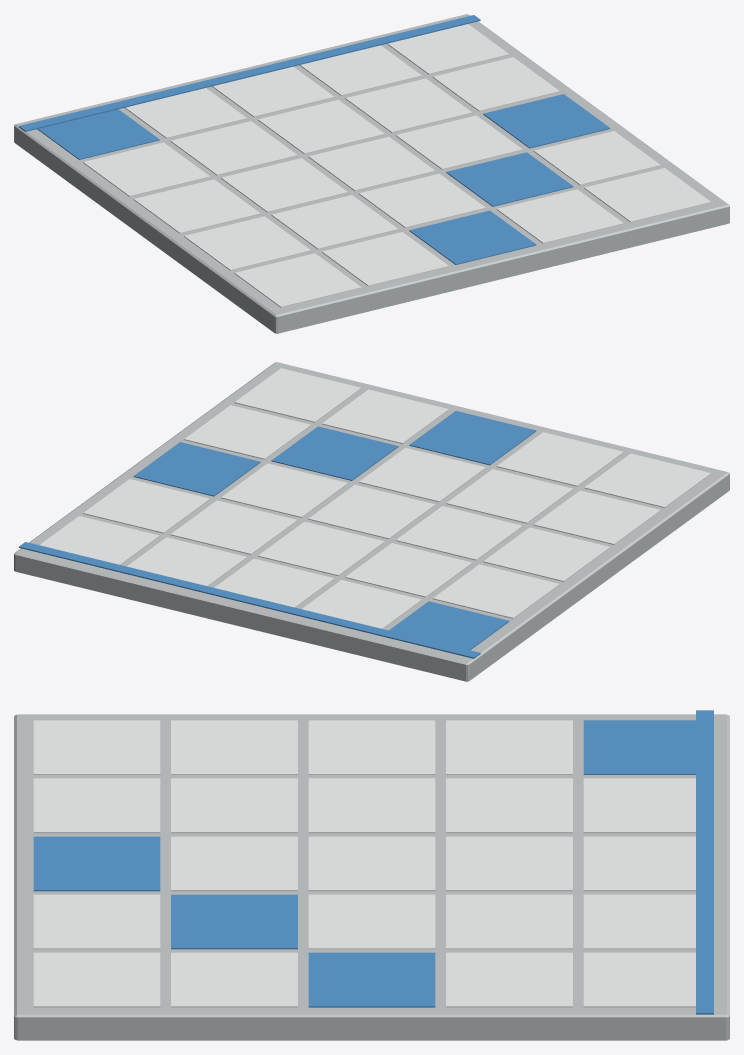
Rendered from public-swimming-baths-and-poolside-changing-floor-tile-f82ea010__35273.glb.
3 renders of one model, top to bottom at view 1: azimuth 30°, elevation 25°; view 2: azimuth 150°, elevation 25°; view 3: azimuth 270°, elevation 25°, orthographic. The views are drawn at different scales.
Parts seen in each view (by area): view 1: changing-floor-tile; view 2: changing-floor-tile; view 3: changing-floor-tile.
Part boxes in pixels (x1,y1,x2,y2): changing-floor-tile: (14,14,729,333); changing-floor-tile: (14,362,729,681); changing-floor-tile: (14,710,729,1040).
Bounding box in the file's own units: 2 × 0.0891 × 2.
